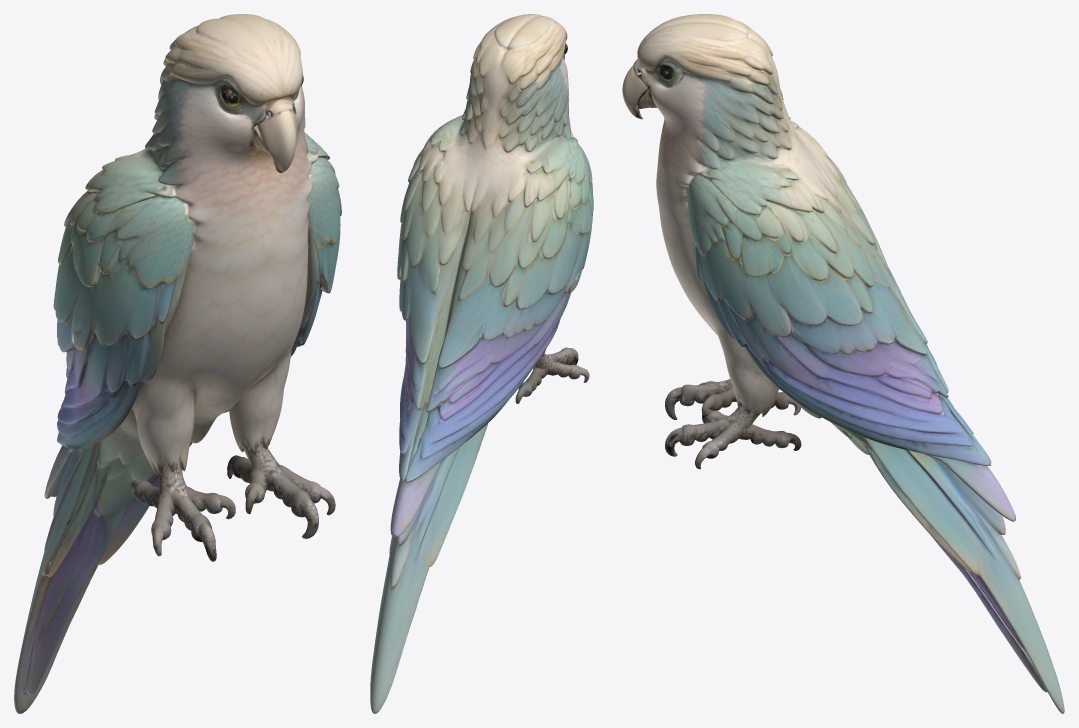
The model's file is parrot.glb.
3 renders of one model, left to right at view 1: azimuth 30°, elevation 25°; view 2: azimuth 150°, elevation 25°; view 3: azimuth 270°, elevation 25°, orthographic. The views are drawn at different scales.
Visible parts, largest first — view 1: node_0; view 2: node_0; view 3: node_0.
Boxes of the visible parts, x1,y1,x2,y2 form: node_0: (14,14,341,713); node_0: (370,14,593,713); node_0: (622,14,1064,713).
Size of the model in its own units: 0.3201 by 1.04 by 0.6015.
Materials: 1 (1 with a texture image).
